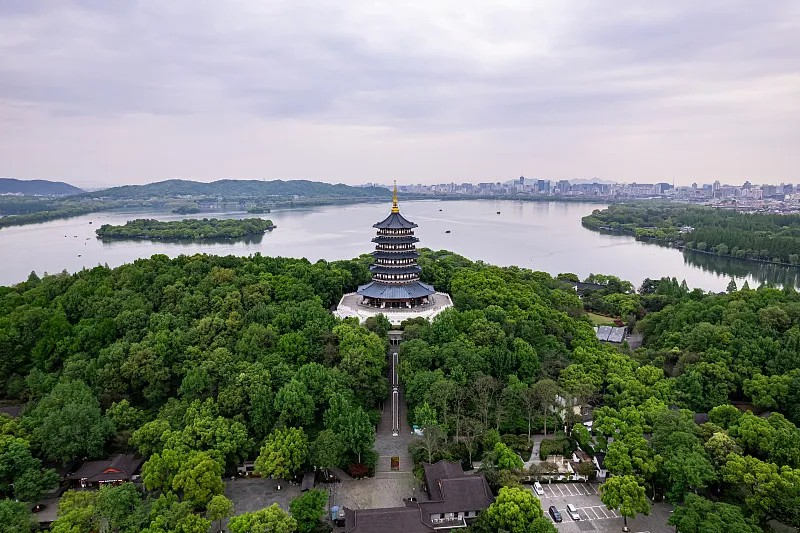Leifeng: (356, 179, 434, 312)
